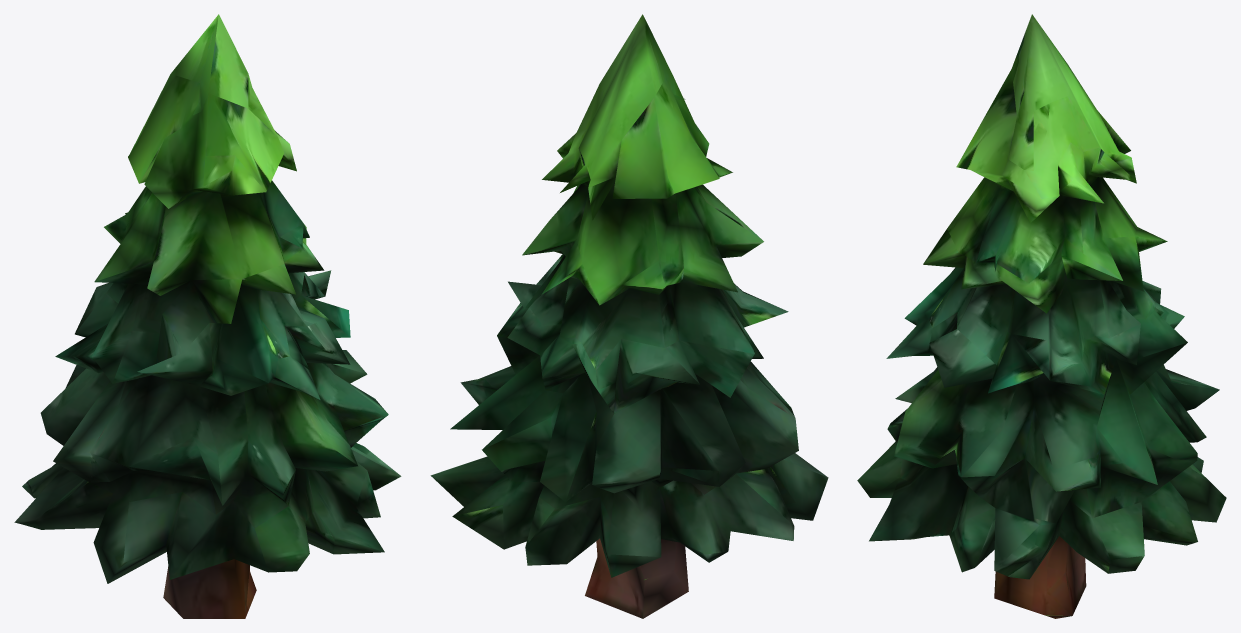
The model's file is tree_pine.glb.
3 views of the same model, side by side, from view 1: azimuth 30°, elevation 25°; view 2: azimuth 150°, elevation 25°; view 3: azimuth 270°, elevation 25° (orthographic). The views are drawn at different scales.
Visible parts, largest first — view 1: tripo_node_c50edfd4-2a6a-4b7d-8914-396f5bdc1c33; view 2: tripo_node_c50edfd4-2a6a-4b7d-8914-396f5bdc1c33; view 3: tripo_node_c50edfd4-2a6a-4b7d-8914-396f5bdc1c33.
Part boxes in pixels (x1,y1,x2,y2): tripo_node_c50edfd4-2a6a-4b7d-8914-396f5bdc1c33: [14, 14, 401, 618]; tripo_node_c50edfd4-2a6a-4b7d-8914-396f5bdc1c33: [430, 14, 828, 618]; tripo_node_c50edfd4-2a6a-4b7d-8914-396f5bdc1c33: [857, 14, 1226, 618].
Size of the model in its own units: 0.5976 by 0.9925 by 0.5674.
1 material, 1 textured.
